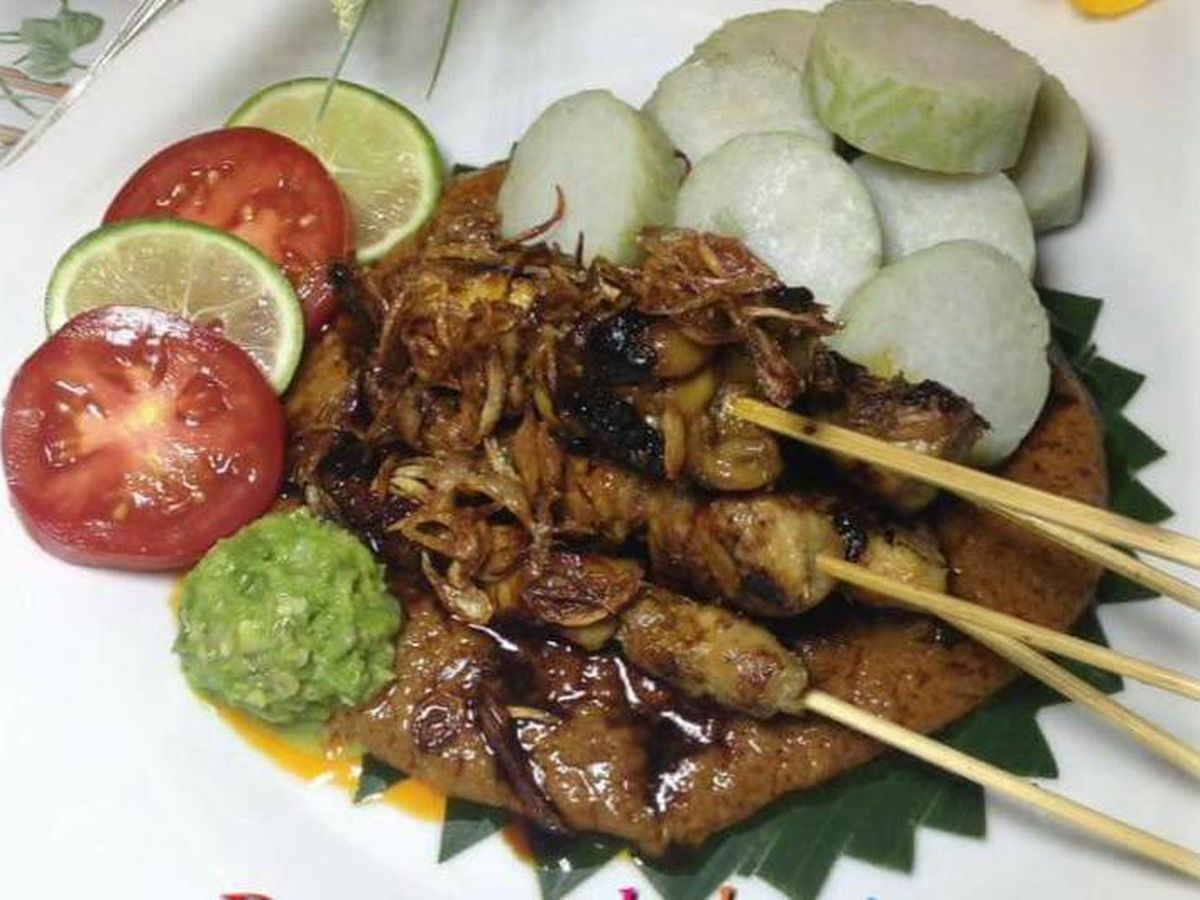sate: (299, 181, 994, 805)
